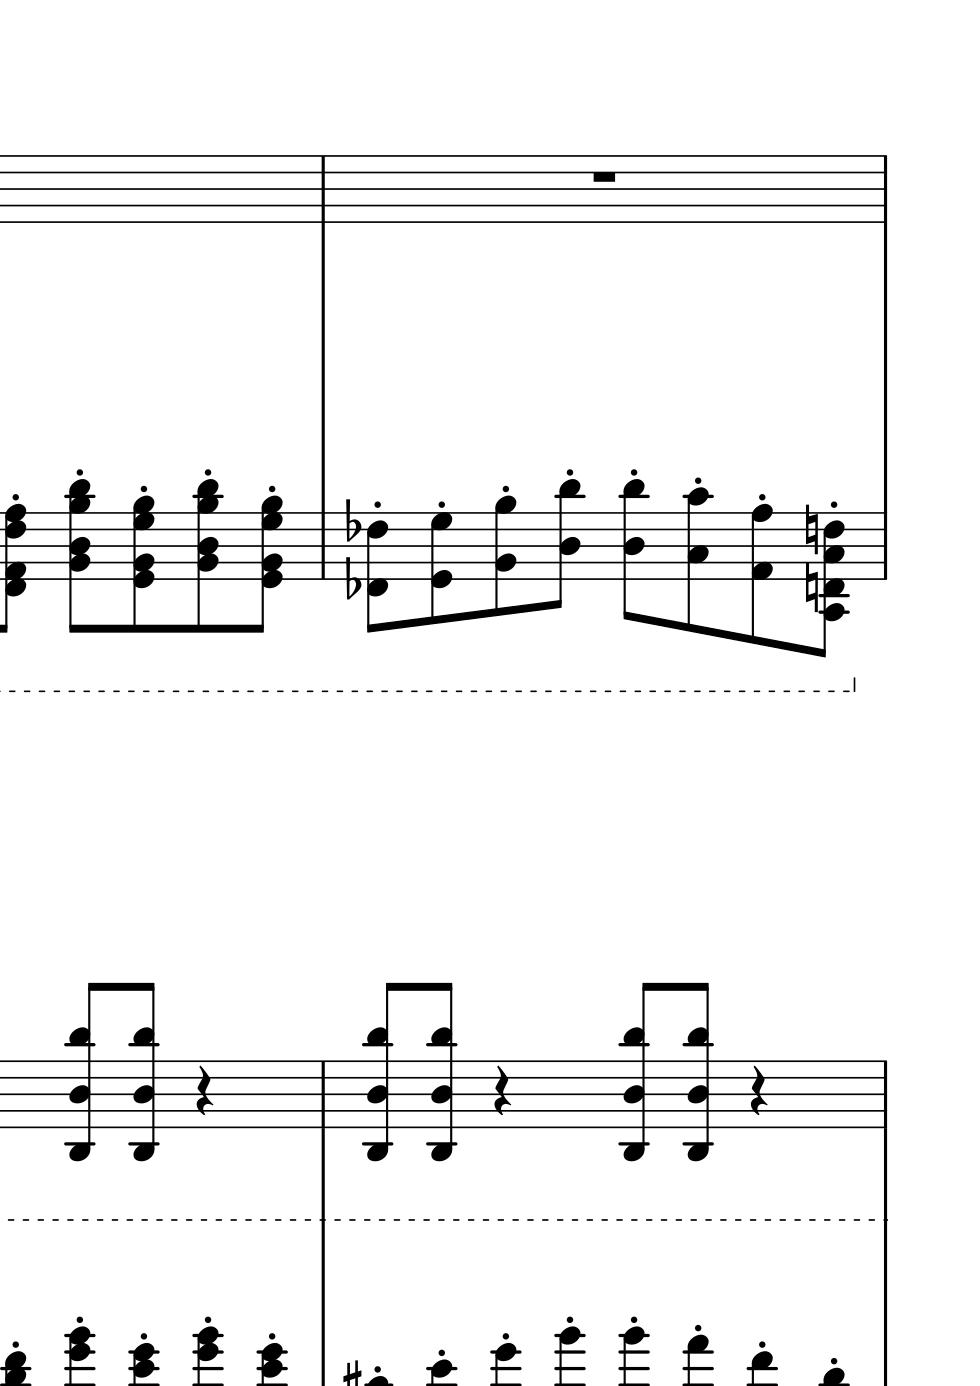8_-1_6: (365, 511, 388, 636)
8_0_7: (428, 511, 453, 626)
8_1_8: (749, 503, 774, 647)
8_2_9: (494, 494, 517, 619)
8_3_10: (683, 487, 714, 636)
8_4_11: (618, 478, 649, 625), (549, 478, 581, 609)
8_4th: (811, 510, 847, 656), (63, 478, 95, 636), (253, 492, 286, 634), (193, 479, 223, 634), (129, 491, 159, 636)
8_th: (618, 979, 658, 1163), (64, 981, 103, 1162), (363, 982, 401, 1160), (425, 983, 457, 1161), (128, 983, 159, 1161), (682, 983, 713, 1161)
Flat: (343, 497, 361, 544), (343, 556, 360, 602)
Natural: (802, 502, 820, 556), (802, 562, 820, 615)
Rests1: (588, 166, 619, 186)
Rests4: (191, 1062, 218, 1120), (490, 1063, 515, 1120), (746, 1064, 769, 1118)
Single_barline: (314, 156, 331, 222), (877, 1062, 893, 1127), (877, 155, 892, 222), (315, 1062, 330, 1128), (877, 513, 892, 579), (315, 513, 330, 578)
